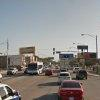Car: (52, 72, 89, 100)
